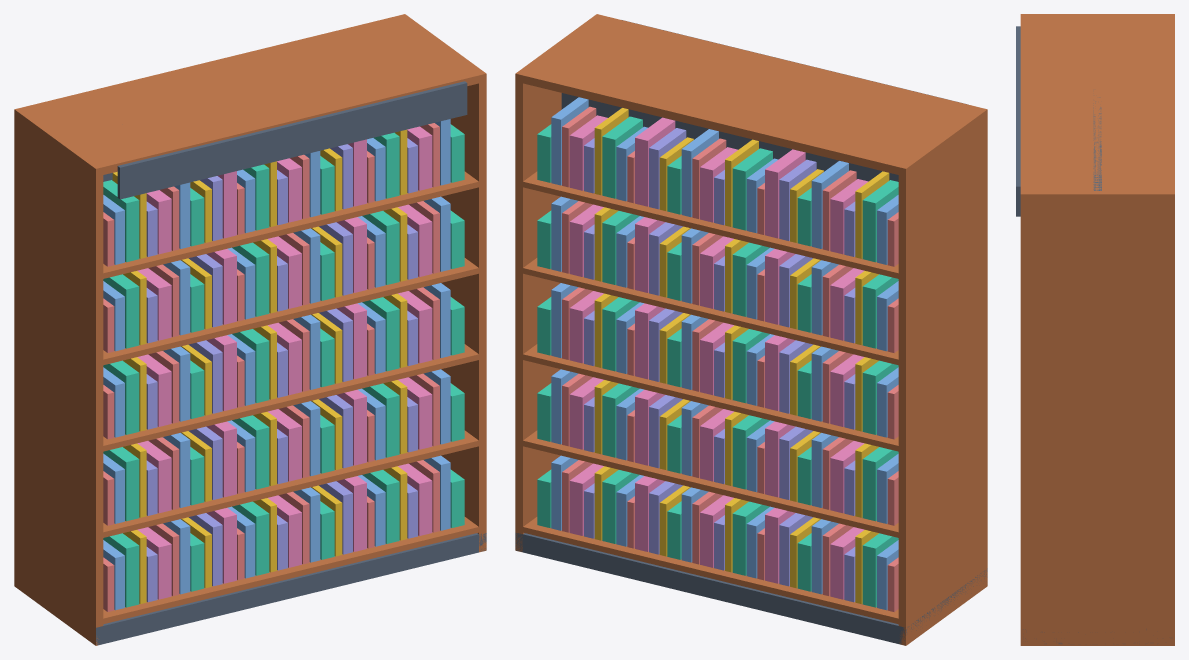
File: rak_buku_perpustakaan.glb
The picture shows the model from 3 angles, left to right: view 1: azimuth 30°, elevation 25°; view 2: azimuth 150°, elevation 25°; view 3: azimuth 270°, elevation 25°; orthographic projection. The views are drawn at different scales.
Visible parts, largest first — view 1: Rak_Buku_Perpustakaan; view 2: Rak_Buku_Perpustakaan; view 3: Rak_Buku_Perpustakaan.
Boxes of the visible parts, <box> form: Rak_Buku_Perpustakaan: <box>14,14,486,645</box>; Rak_Buku_Perpustakaan: <box>515,14,987,645</box>; Rak_Buku_Perpustakaan: <box>1016,14,1174,645</box>.
Size of the model in its own units: 1.8 by 2.1 by 0.67.
